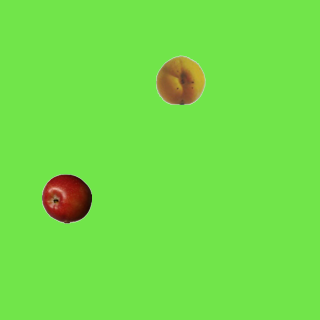Apple Braeburn: (41, 173, 91, 223)
Peach 2: (155, 54, 205, 104)
